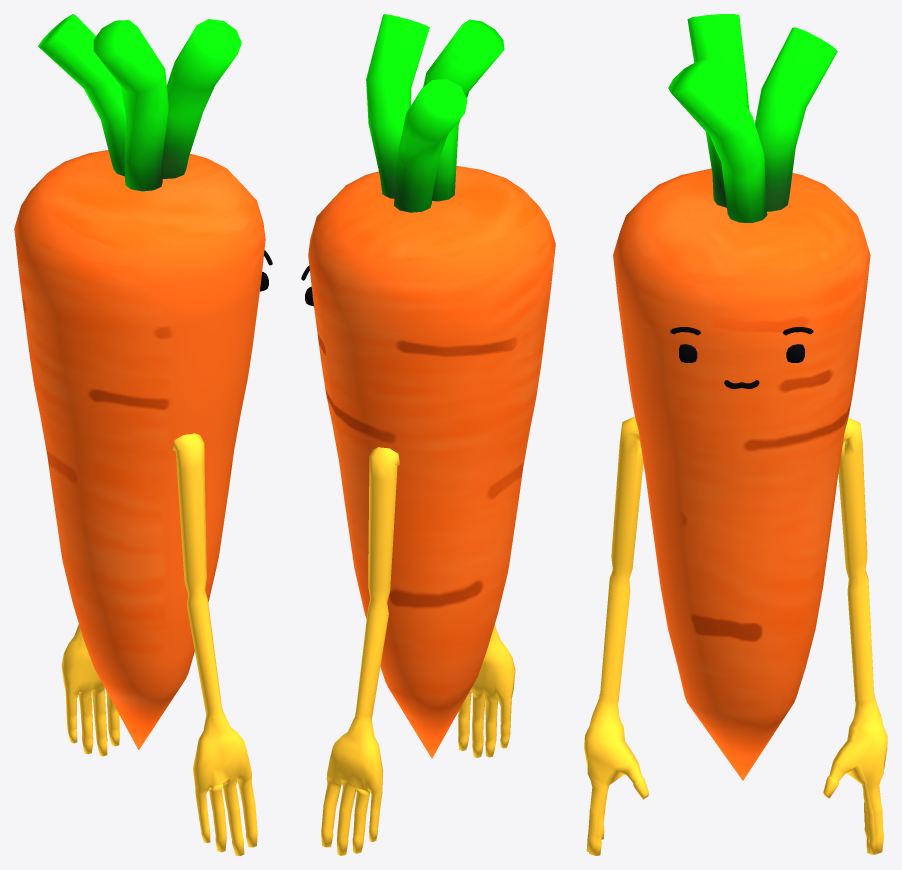
Rendered from Carrot.glb.
The picture shows the model from 3 angles, left to right: view 1: azimuth 30°, elevation 25°; view 2: azimuth 150°, elevation 25°; view 3: azimuth 270°, elevation 25°; orthographic projection. The views are drawn at different scales.
Visible parts, largest first — view 1: Char_023_CarrotKid; view 2: Char_023_CarrotKid; view 3: Char_023_CarrotKid.
Part boxes in pixels (x1,y1,x2,y2): Char_023_CarrotKid: (14, 14, 272, 855); Char_023_CarrotKid: (301, 14, 555, 855); Char_023_CarrotKid: (584, 14, 887, 855).
Size of the model in its own units: 0.4314 by 1.51 by 0.5089.
1 material, 1 textured.
